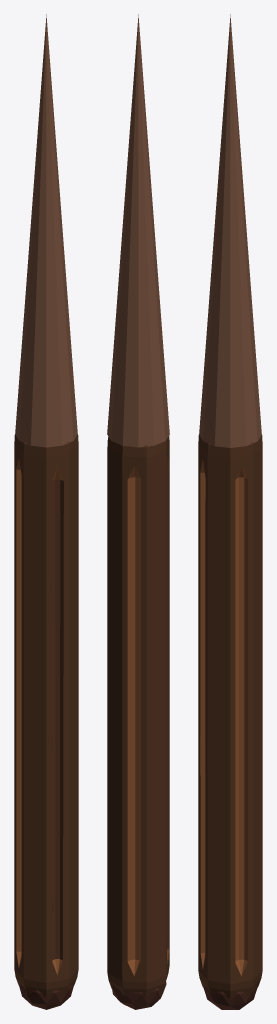
File: Wand 520.glb
3 views of the same model, side by side, from view 1: azimuth 90°, elevation 25°; view 2: azimuth 150°, elevation 25°; view 3: azimuth 270°, elevation 25° (orthographic).
Visible parts, largest first — view 1: GeneratedWand; view 2: GeneratedWand; view 3: GeneratedWand.
Boxes of the visible parts, x1,y1,x2,y2 form: GeneratedWand: (14, 14, 78, 1009); GeneratedWand: (107, 14, 169, 1009); GeneratedWand: (198, 14, 262, 1009).
Size of the model in its own units: 0.0289 by 0.4928 by 0.0289.
